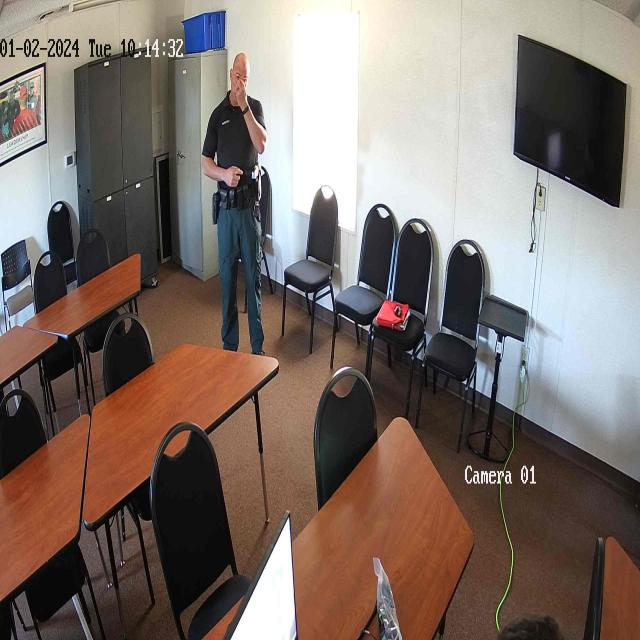weapon: (212, 193, 221, 225)
